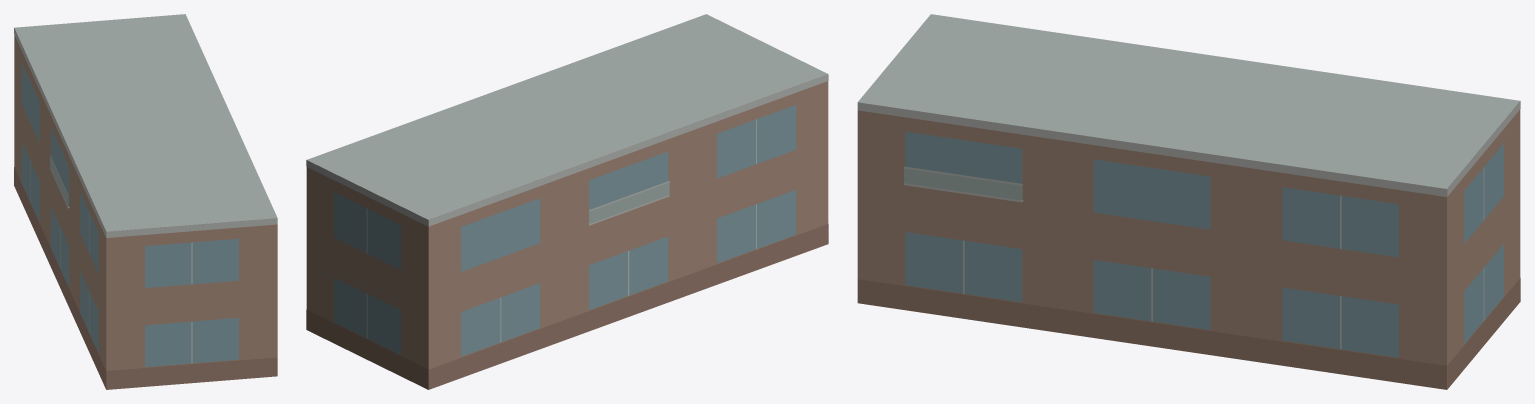
Rendered from survey-upis-32720698.glb.
3 views of the same model, side by side, from view 1: azimuth 30°, elevation 25°; view 2: azimuth 150°, elevation 25°; view 3: azimuth 270°, elevation 25° (orthographic). The views are drawn at different scales.
Parts seen in each view (by area): view 1: survey-upis-32720698.tmp; view 2: survey-upis-32720698.tmp; view 3: survey-upis-32720698.tmp.
Part boxes in pixels (bbox=[...]): survey-upis-32720698.tmp: bbox=[14, 14, 277, 389]; survey-upis-32720698.tmp: bbox=[306, 14, 828, 389]; survey-upis-32720698.tmp: bbox=[857, 14, 1520, 389].
Size of the model in its own units: 11.41 by 6.1 by 18.26.
